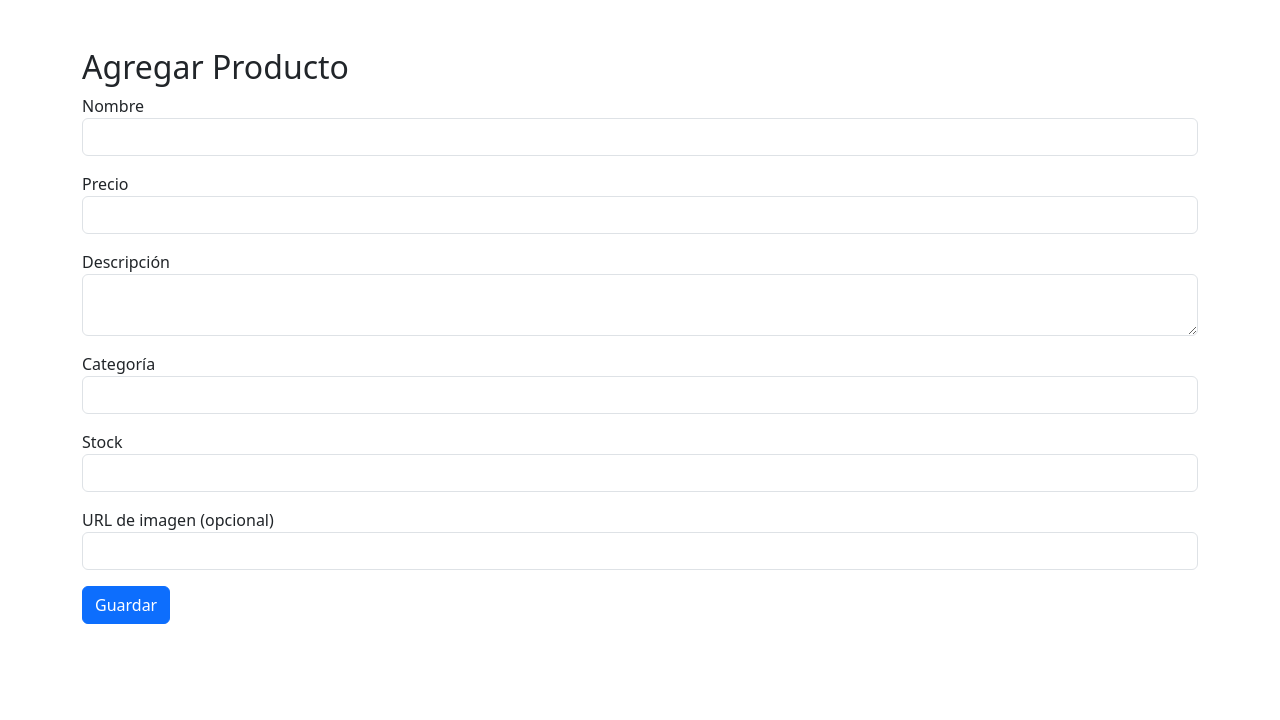
Test: muestra error si el nombre está vacío
Click the button "Guardar" at point(126, 605), box [82,586,170,624]
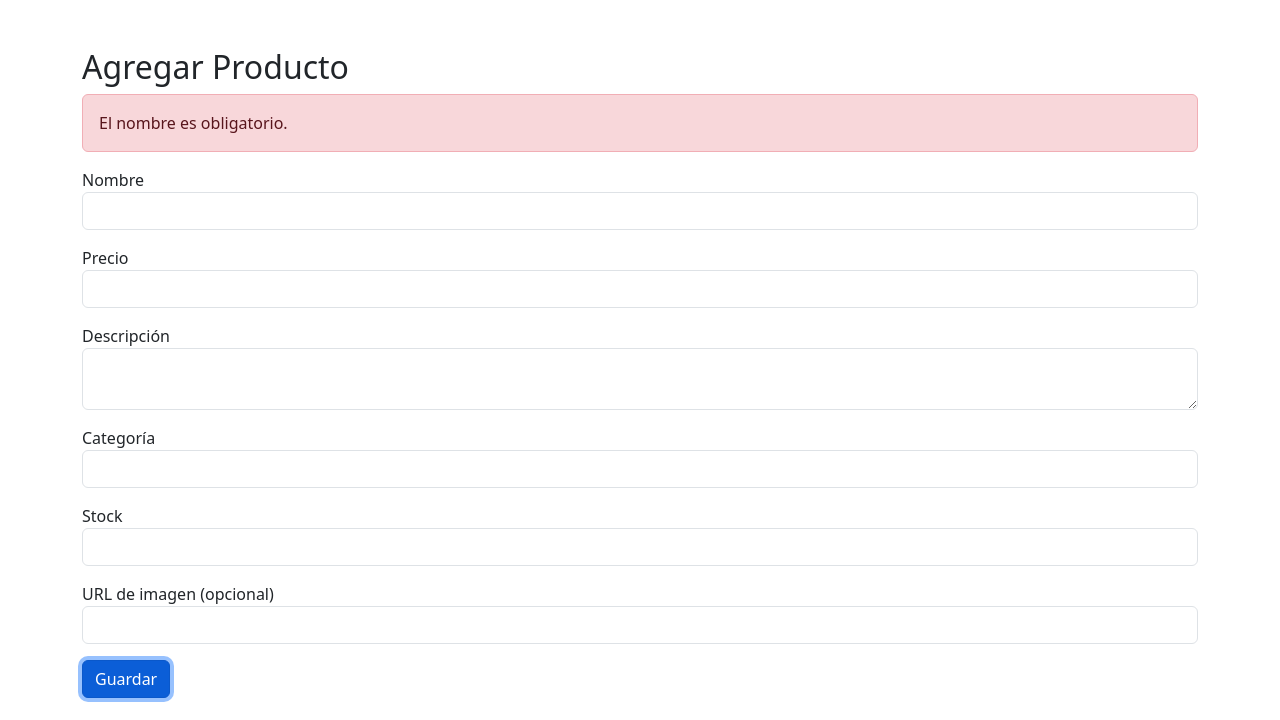
Result: the text "El nombre es obligatorio." is shown at [82,94,1198,152]
